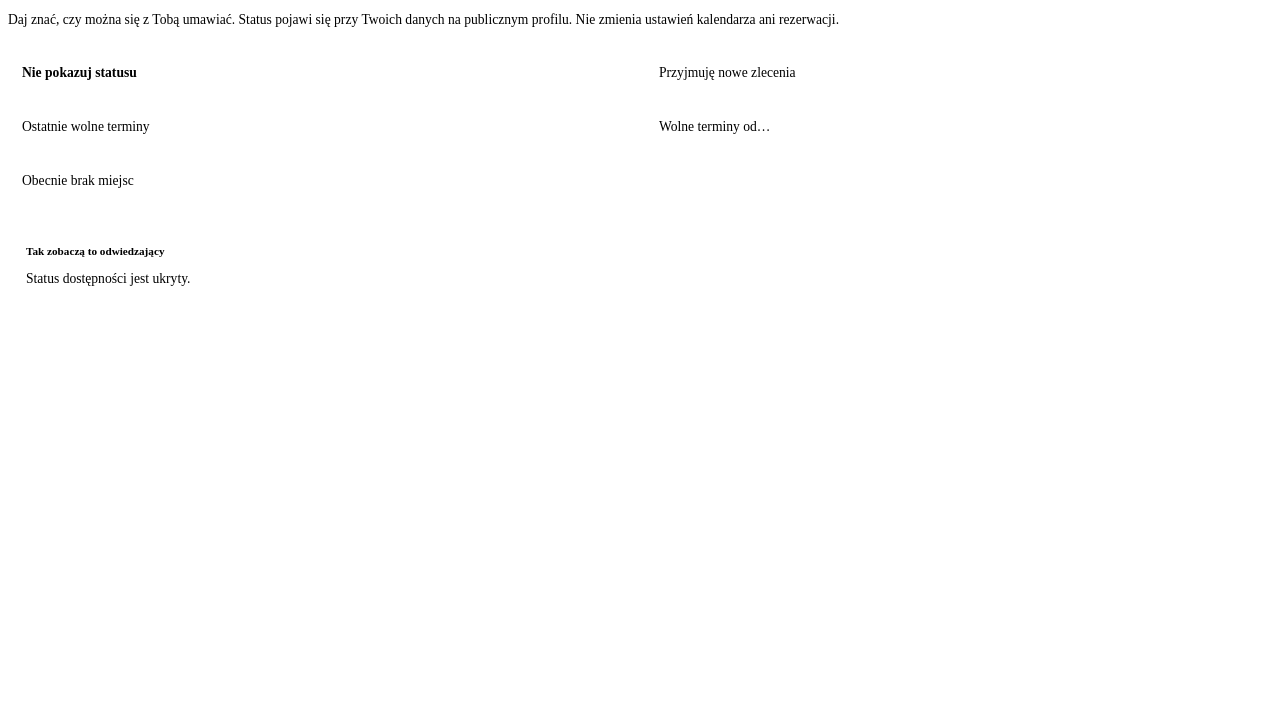
date-specific status requires a start date and renders it once chosen
Click the button "Wolne terminy od…". click: (715, 127)
box: top-left (645, 105), bottom-right (1272, 149)
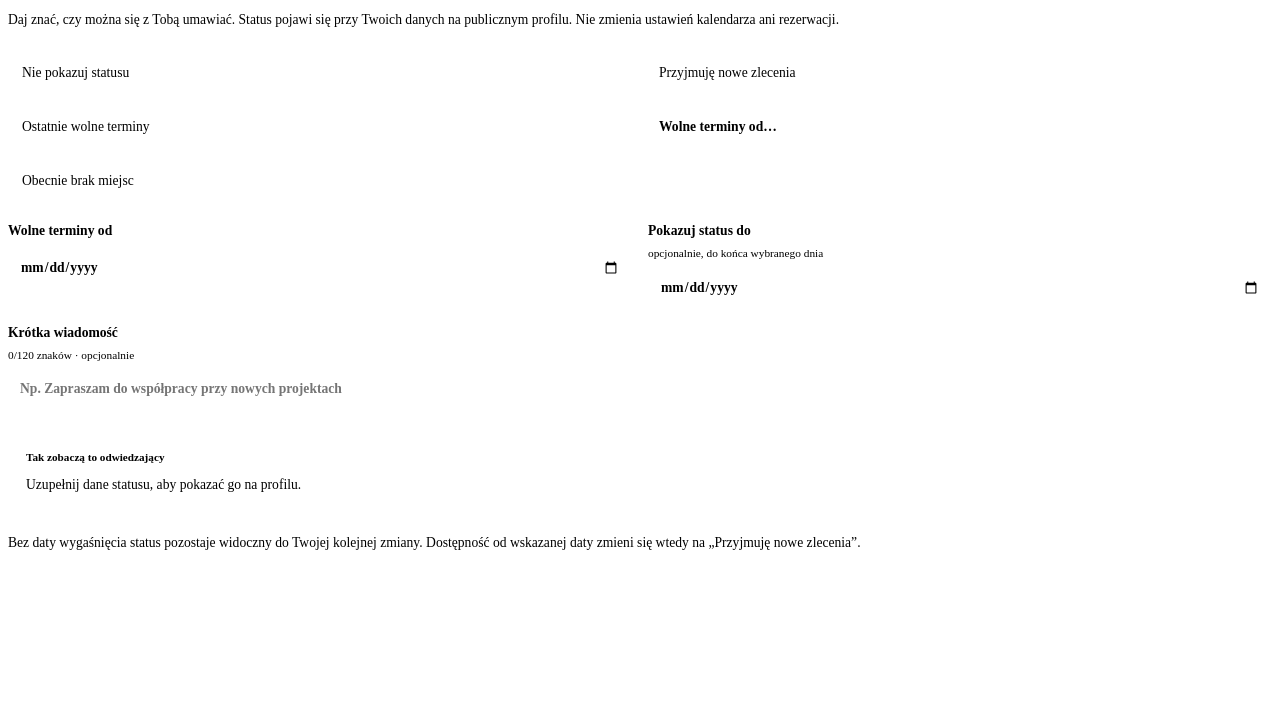
Check: the text "Uzupełnij dane statusu, aby pokazać go na profilu." is shown, box top-left (26, 477), bottom-right (301, 492)
Type "2099-10-12" into the date field labelled "Wolne terminy od". click: (320, 268)
box: top-left (8, 247), bottom-right (632, 289)
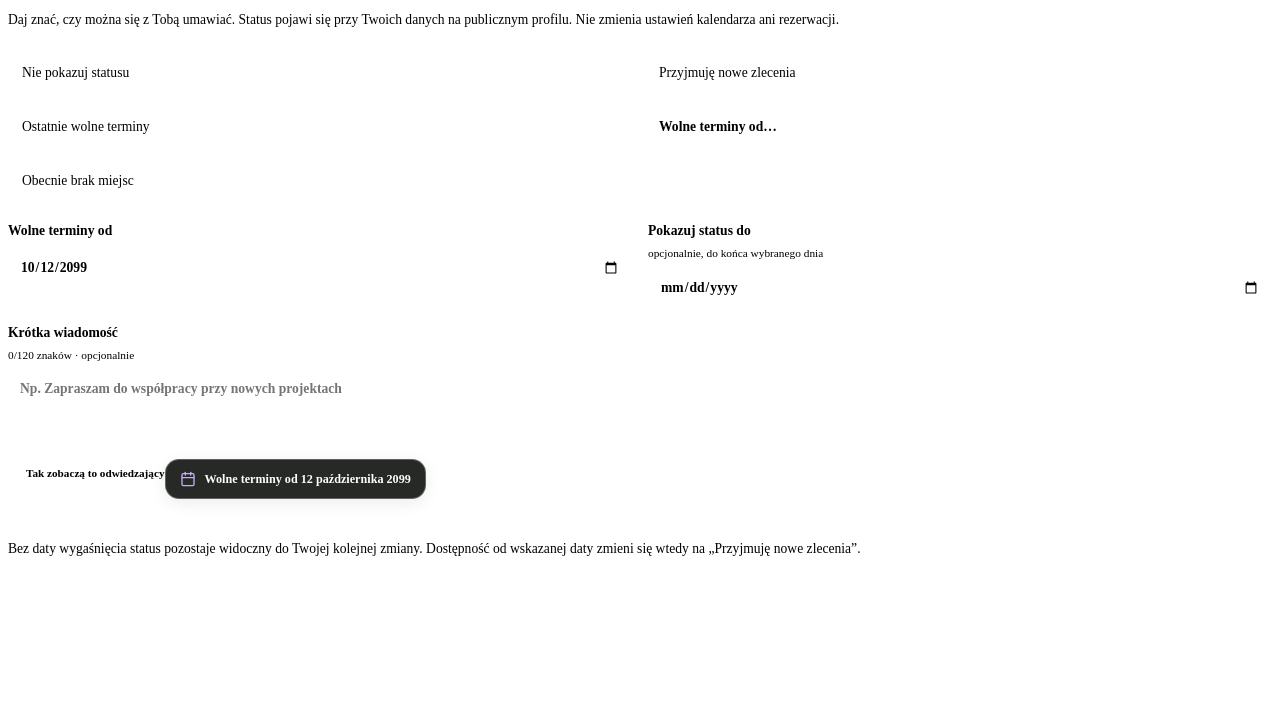
Check: the text "Wolne terminy od 12 października 2099" is shown, box top-left (204, 470), bottom-right (411, 488)
